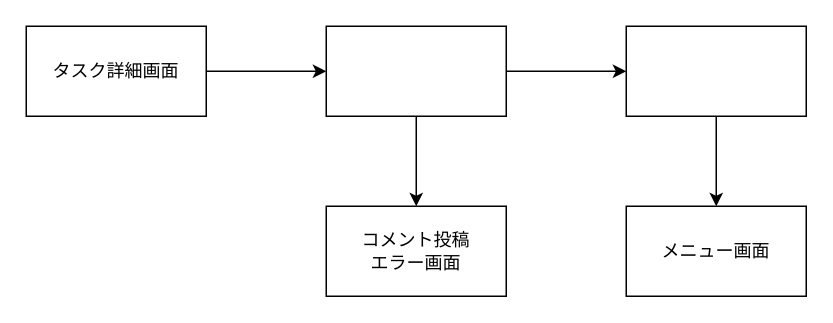
The diagram is 833 pixels wide and 323 high, and some of its shapes have lost their labels. Here are the shapes that lost their labels. From the top down, the centre of each, then its label:
At pixel 415 70: "コメント投稿画面".
At pixel 715 70: "コメント投稿 完了画面".
